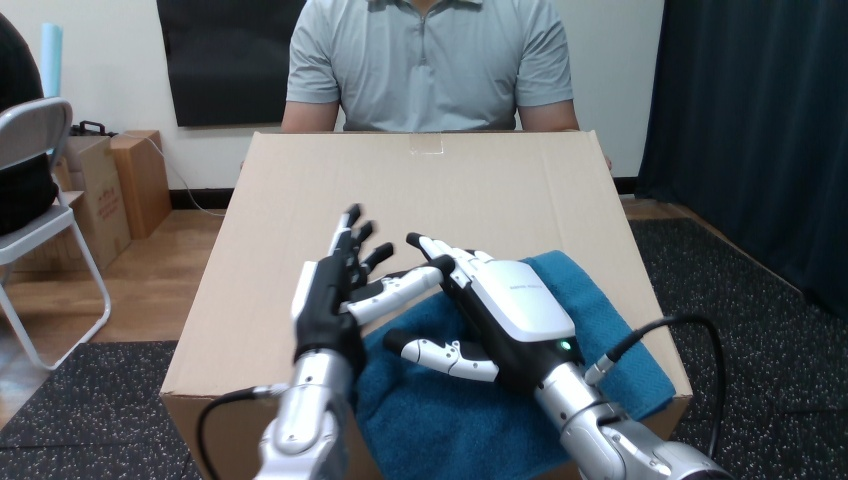left robot hand: (196, 204, 731, 479), (384, 232, 729, 479), (598, 321, 718, 457)
